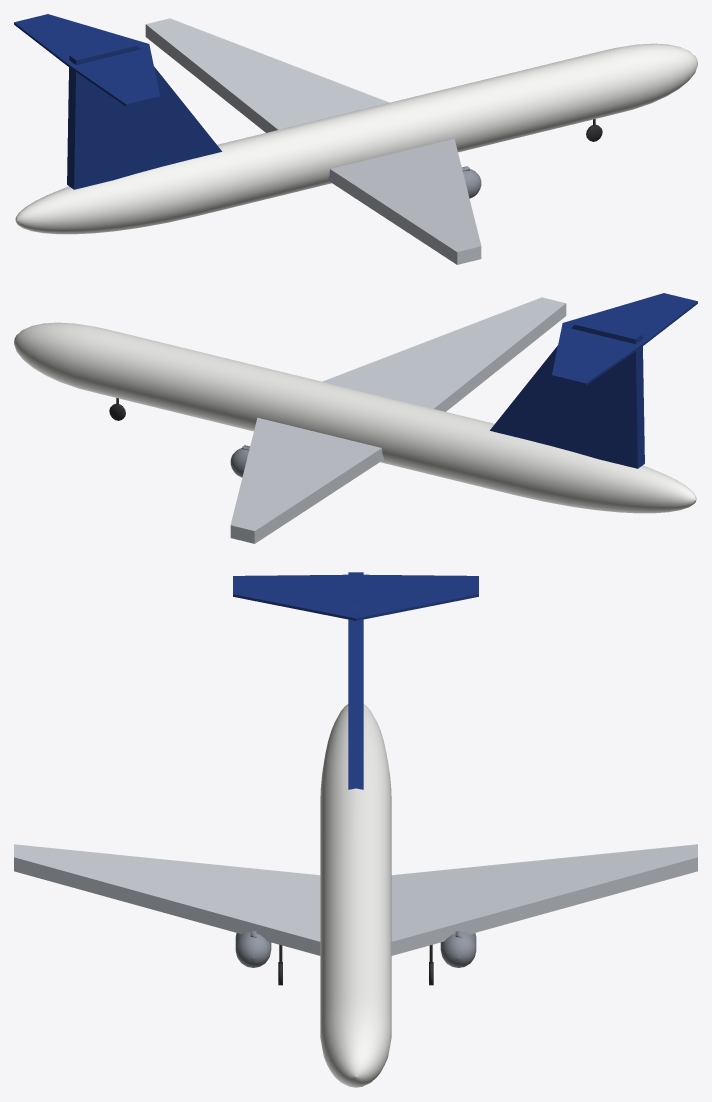
3 views of the same model, one above another, from view 1: azimuth 30°, elevation 25°; view 2: azimuth 150°, elevation 25°; view 3: azimuth 270°, elevation 25° (orthographic). The views are drawn at different scales.
Parts seen in each view (by area): view 1: fuselage, wings, tail, engines; view 2: fuselage, wings, tail, engines; view 3: wings, fuselage, tail, engines.
Part boxes in pixels (left/top/right/bottom): fuselage: left=15, top=43, right=697, bottom=234; wings: left=145, top=18, right=481, bottom=264; tail: left=14, top=14, right=221, bottom=189; engines: left=462, top=166, right=481, bottom=198; fuselage: left=14, top=322, right=696, bottom=513; wings: left=230, top=297, right=566, bottom=543; tail: left=490, top=293, right=697, bottom=468; engines: left=230, top=445, right=249, bottom=477; wings: left=14, top=844, right=697, bottom=955; fuselage: left=320, top=704, right=391, bottom=1087; tail: left=233, top=572, right=478, bottom=789; engines: left=235, top=930, right=476, bottom=967.
Bounding box in the file's own units: 36.2 × 10.69 × 28.7.
